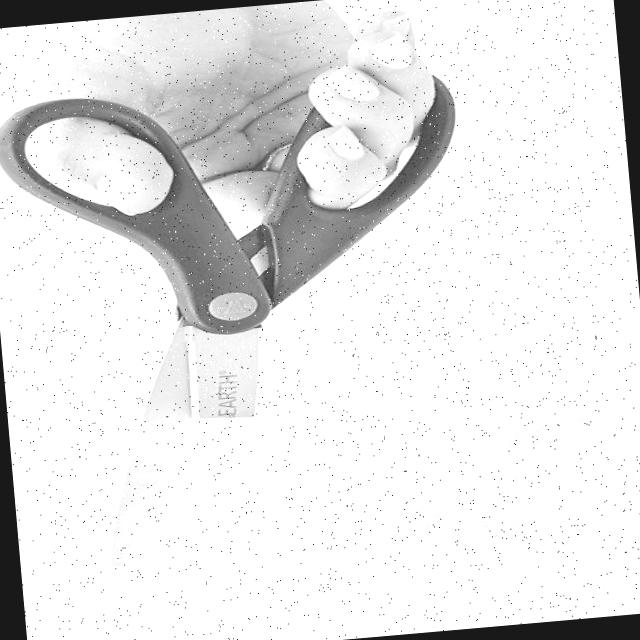scissors: (0, 58, 498, 577)
